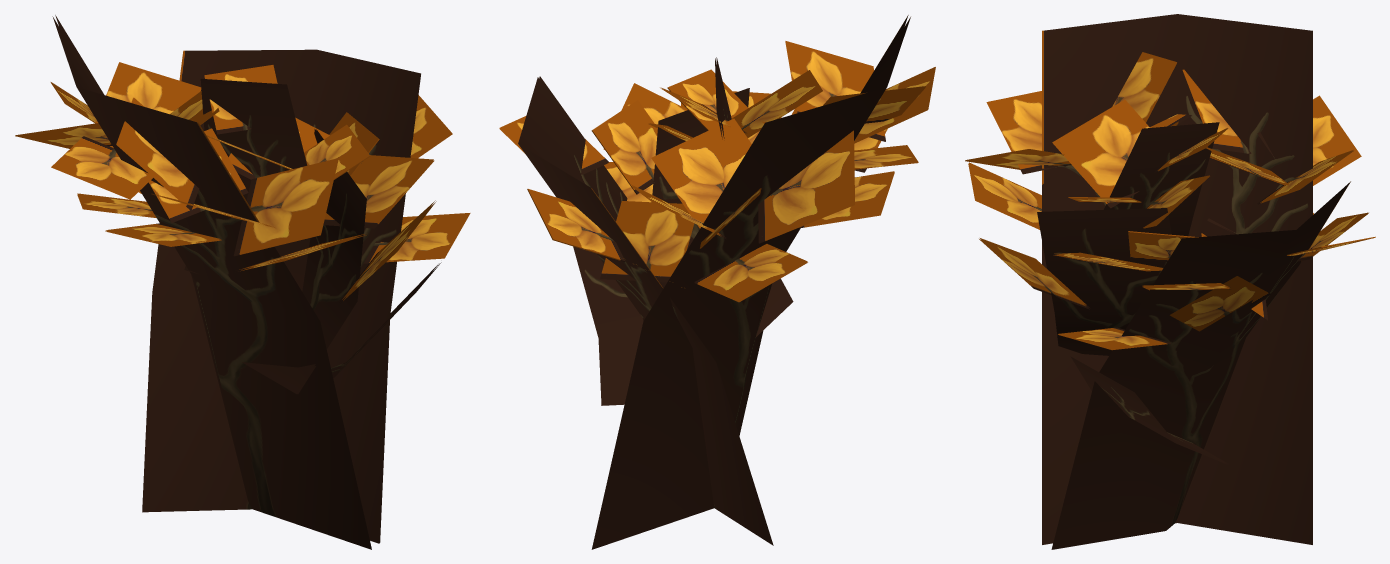
File: bush_04a.fbx
The picture shows the model from 3 angles, left to right: view 1: azimuth 30°, elevation 25°; view 2: azimuth 150°, elevation 25°; view 3: azimuth 270°, elevation 25°; orthographic projection. The views are drawn at different scales.
Visible parts, largest first — view 1: bush_04a; view 2: bush_04a; view 3: bush_04a.
Part boxes in pixels (left/top/right/bottom): bush_04a: left=15, top=15, right=470, bottom=549; bush_04a: left=499, top=15, right=935, bottom=549; bush_04a: left=965, top=14, right=1375, bottom=549.
Size of the model in its own units: 6.81 by 7.78 by 6.66.
